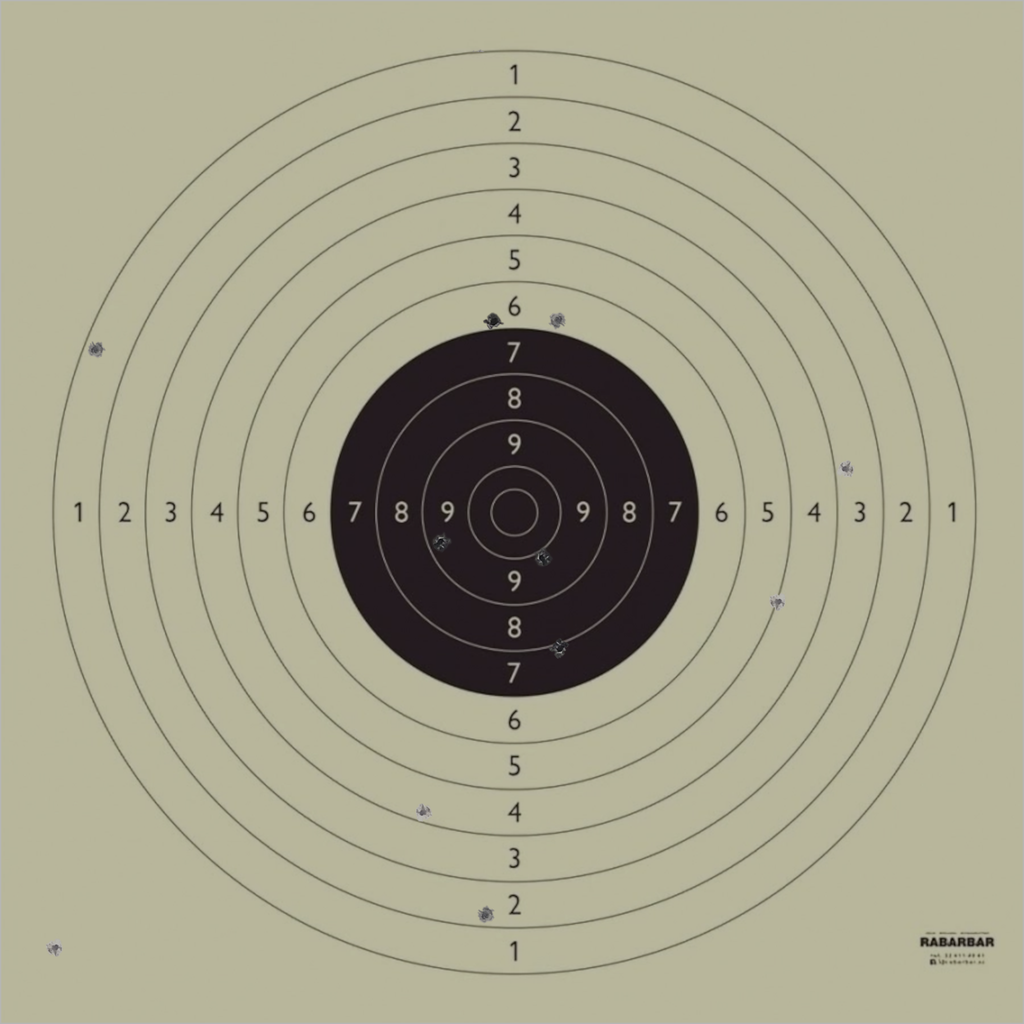0 punktow: (46, 939, 65, 957)
1 punkt: (86, 340, 105, 359)
10 punktow: (533, 548, 551, 567)
2 punkty: (476, 906, 495, 924)
3 punkty: (836, 460, 855, 478)
4 punkty: (414, 803, 432, 822)
5 punktow: (769, 593, 787, 611)
6 punktow: (549, 311, 567, 329)
7 punktow: (484, 313, 503, 331)
8 punktow: (551, 639, 569, 657)
9 punktow: (432, 532, 450, 551)
